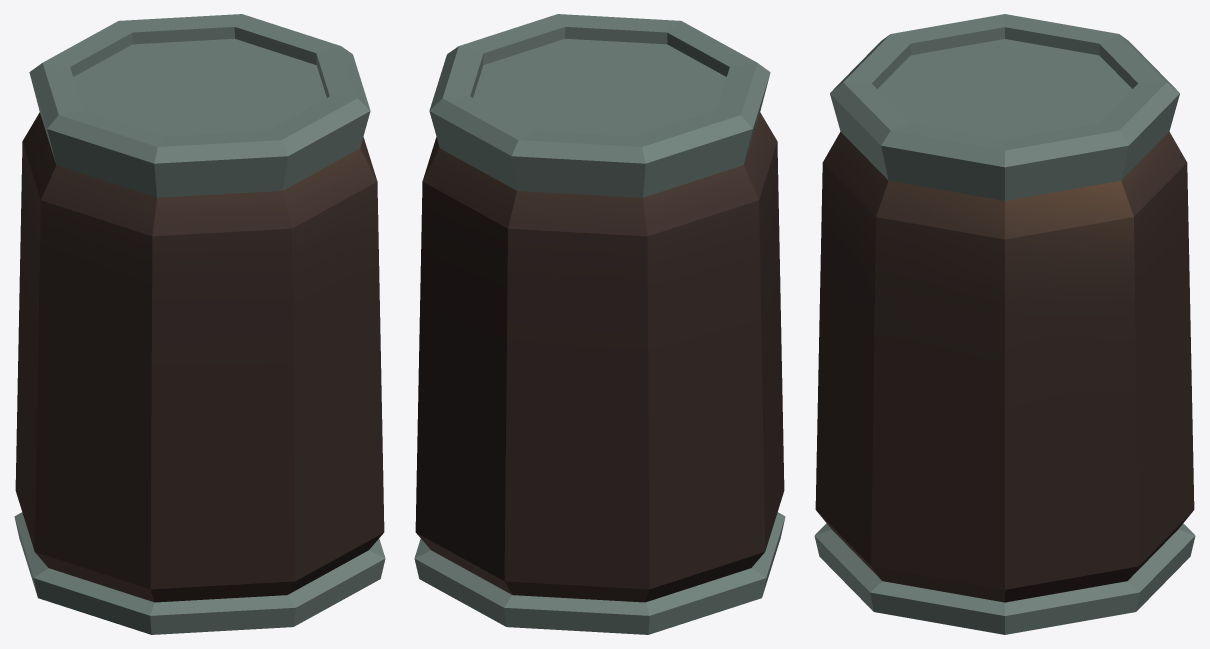
File: Can.fbx
3 views of the same model, side by side, from view 1: azimuth 30°, elevation 25°; view 2: azimuth 150°, elevation 25°; view 3: azimuth 270°, elevation 25° (orthographic).
Parts seen in each view (by area): view 1: ST_Can; view 2: ST_Can; view 3: ST_Can.
Boxes of the visible parts, left/top/right/bottom form: ST_Can: left=14, top=14, right=385, bottom=634; ST_Can: left=414, top=14, right=785, bottom=634; ST_Can: left=814, top=14, right=1195, bottom=634.
Size of the model in its own units: 21.1 by 29.83 by 21.1.
